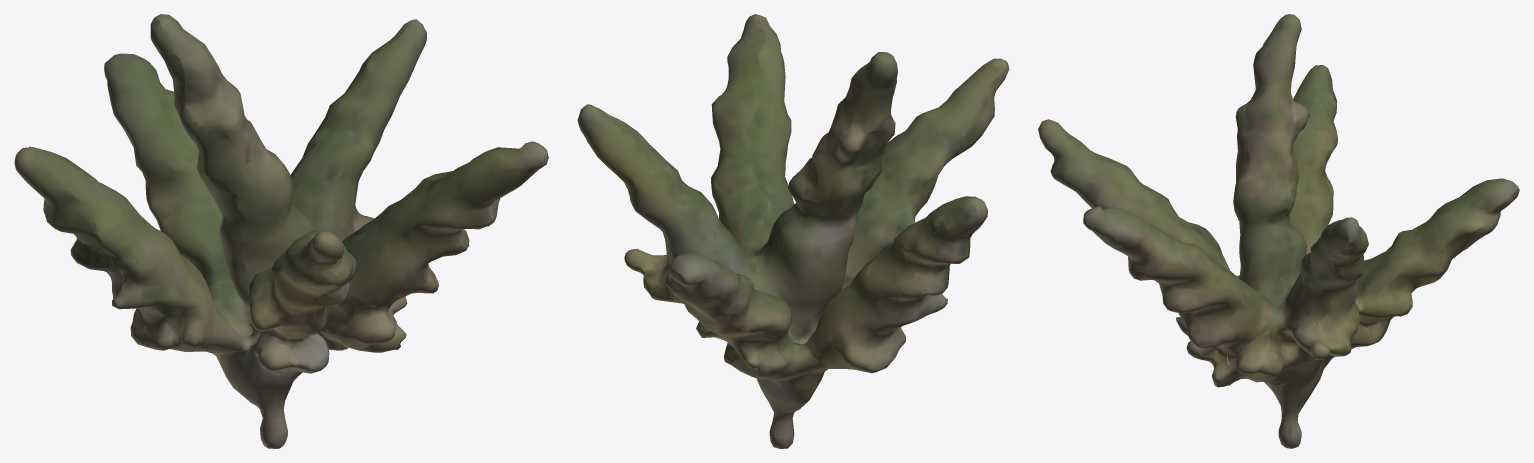
File: ground_cover_01_lod0.glb
3 views of the same model, side by side, from view 1: azimuth 30°, elevation 25°; view 2: azimuth 150°, elevation 25°; view 3: azimuth 270°, elevation 25° (orthographic). The views are drawn at different scales.
Visible parts, largest first — view 1: candidate_012_lod0; view 2: candidate_012_lod0; view 3: candidate_012_lod0.
Boxes of the visible parts, x1,y1,x2,y2 form: candidate_012_lod0: (14, 14, 548, 448); candidate_012_lod0: (577, 14, 1009, 448); candidate_012_lod0: (1038, 14, 1519, 448).
Bounding box in the file's own units: 0.0965 × 0.0991 × 0.1118.
Materials: 1 (1 with a texture image).
